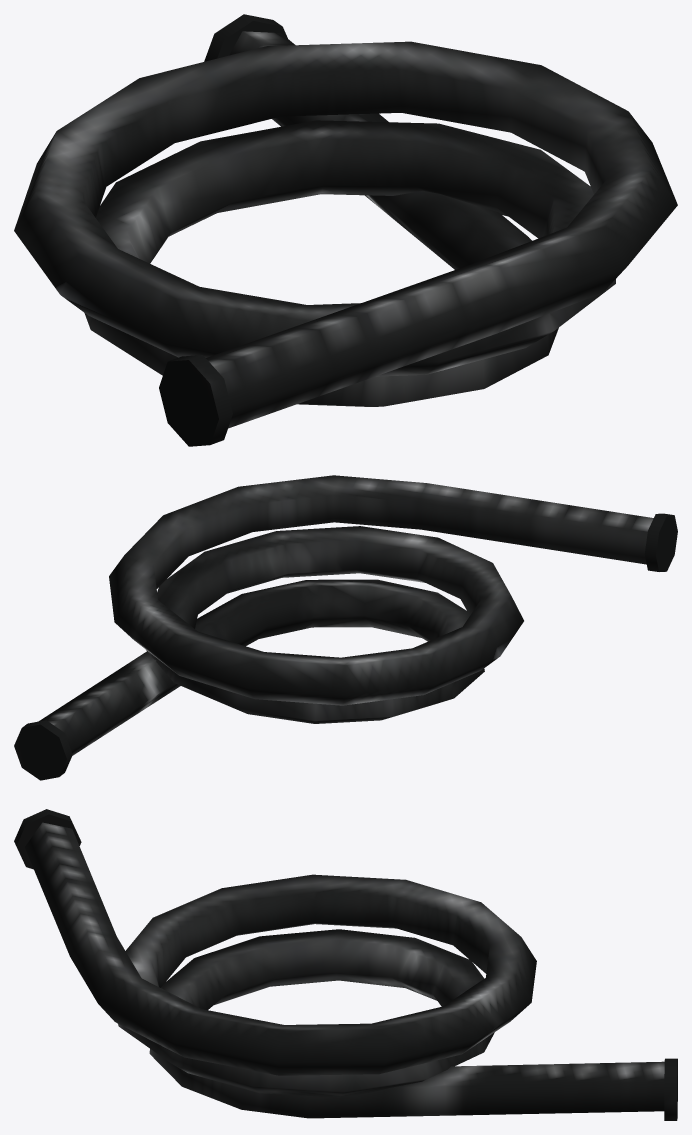
Rendered from hose.FBX.
3 views of the same model, one above another, from view 1: azimuth 30°, elevation 25°; view 2: azimuth 150°, elevation 25°; view 3: azimuth 270°, elevation 25° (orthographic). The views are drawn at different scales.
Parts seen in each view (by area): view 1: InventoryItem_Hose; view 2: InventoryItem_Hose; view 3: InventoryItem_Hose.
Boxes of the visible parts, <box> form: InventoryItem_Hose: <box>14,14,677,446</box>; InventoryItem_Hose: <box>14,475,677,780</box>; InventoryItem_Hose: <box>14,809,677,1120</box>.
Size of the model in its own units: 241 by 314 by 73.14.
Materials: 1 (1 with a texture image).
